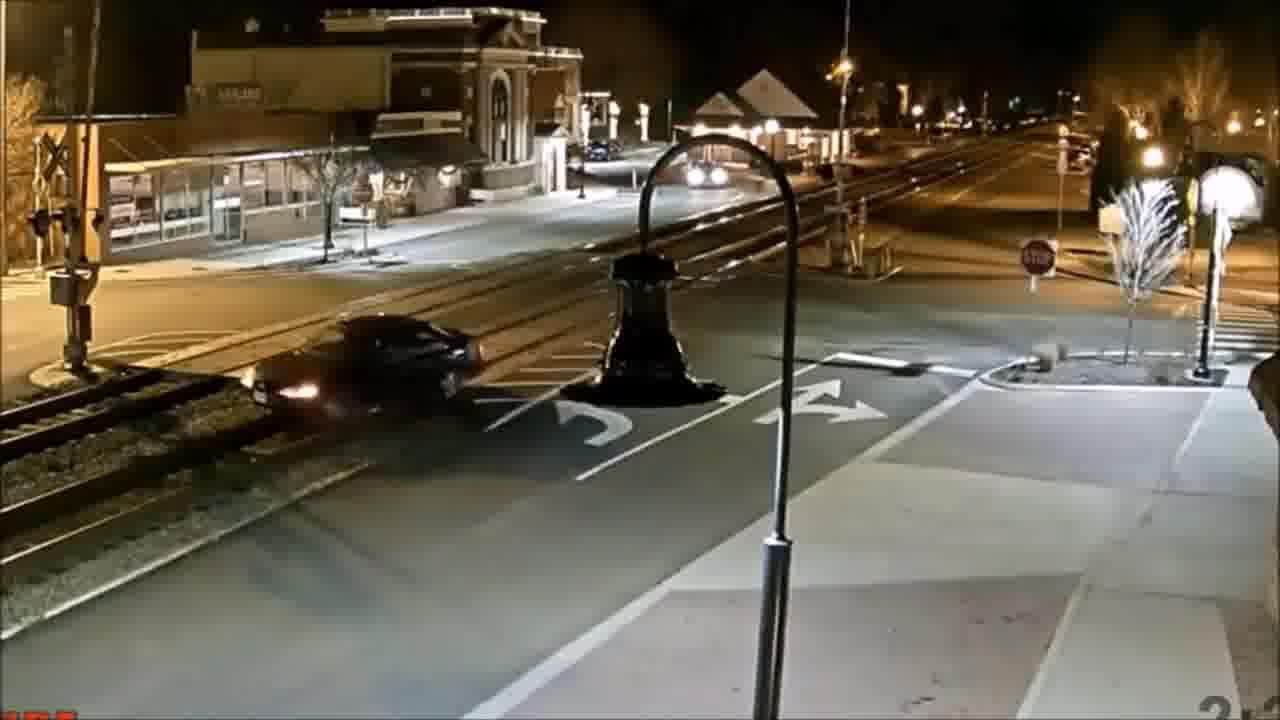crossing railway track: (225, 309, 492, 430)
